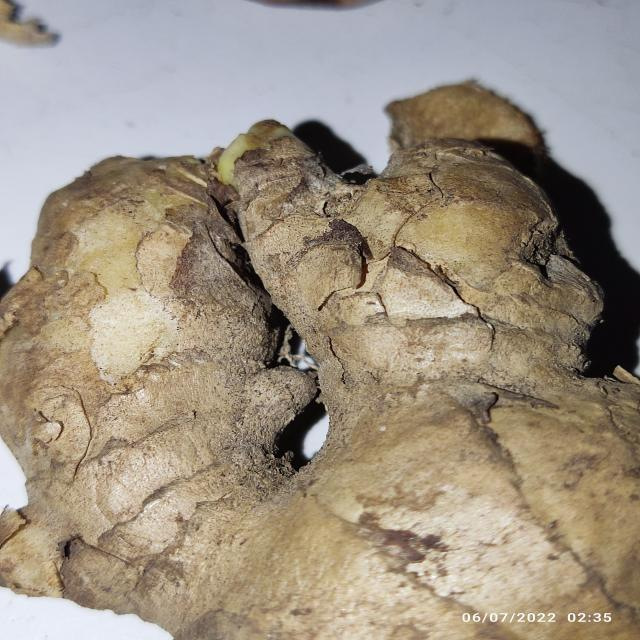ginger: (28, 123, 633, 639)
